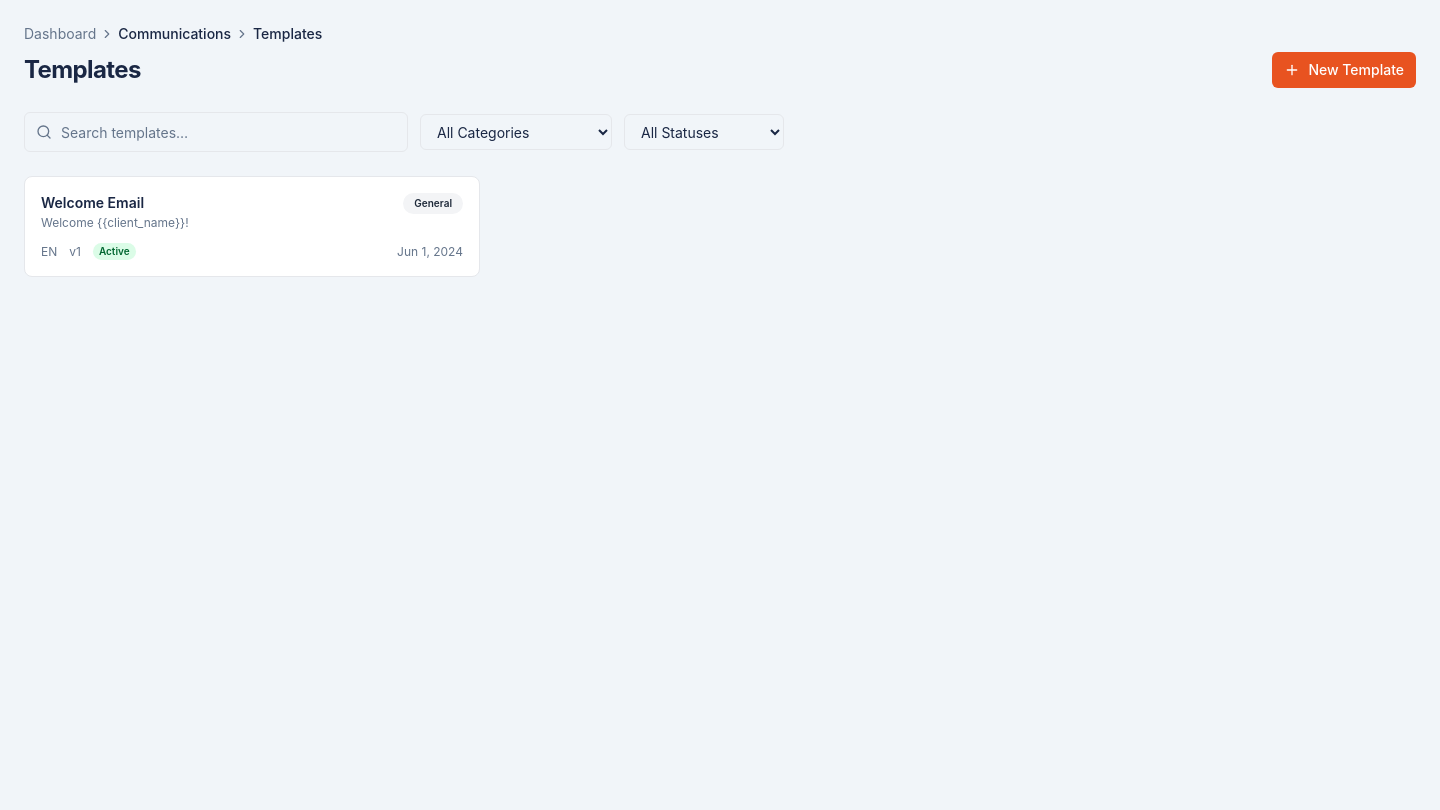
Scenario: TemplatesView › navigates to editor view when clicking a template card
Click the heading "Welcome Email": coordinates (93, 202) 41,194 -> 144,211
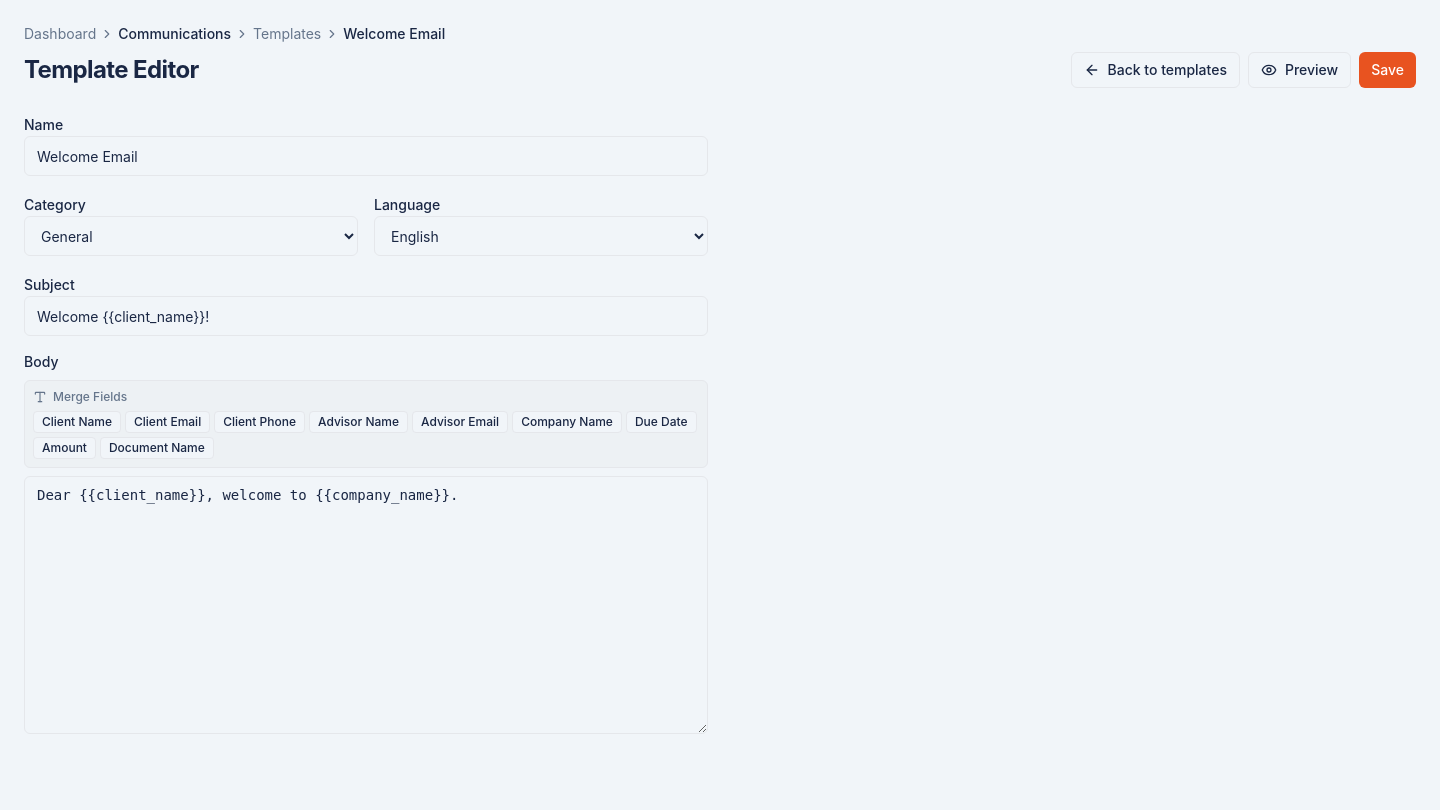
Expected: the heading reads "Template Editor", 24,55 -> 199,84
